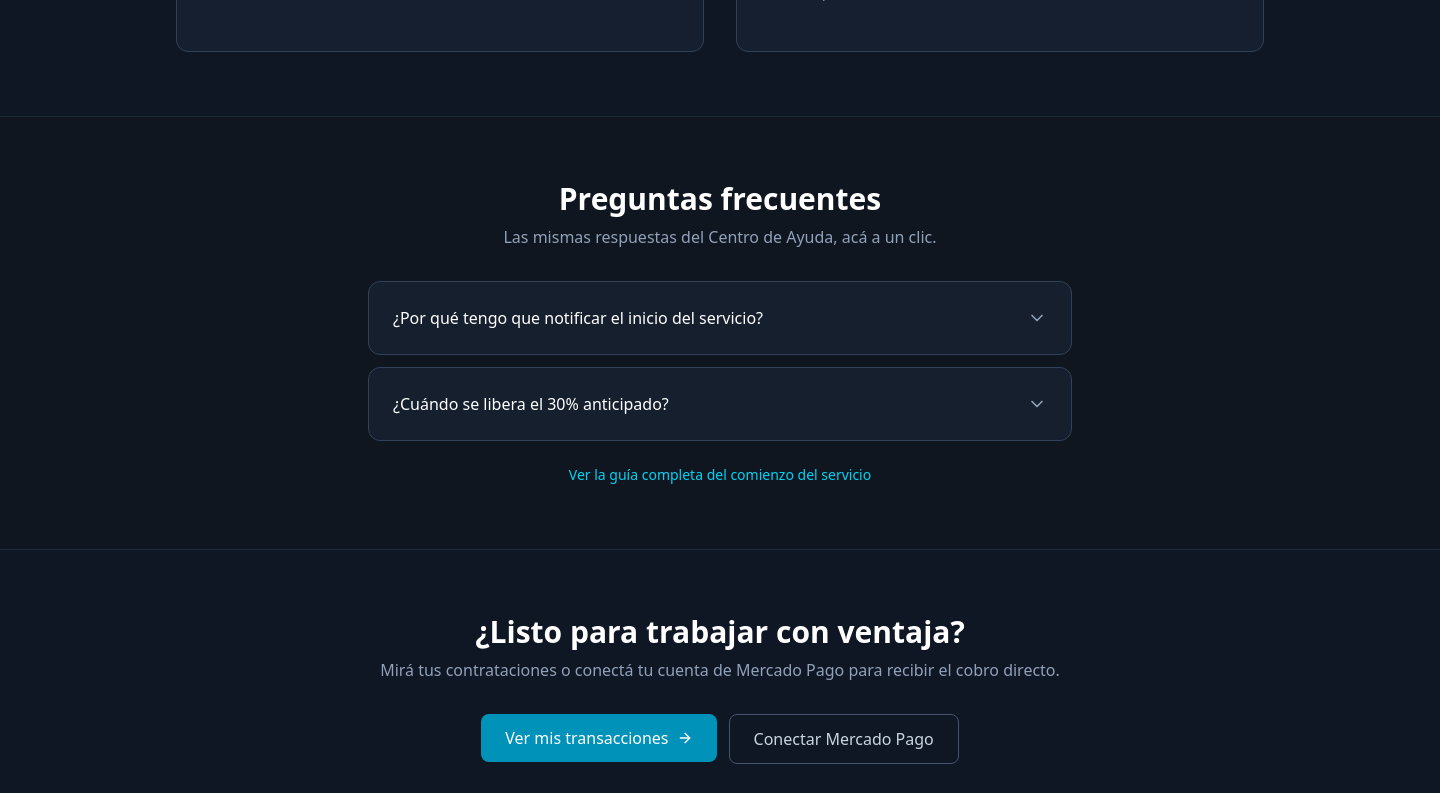
Anticipo30Landing › muestra las FAQs del anuncio y permite abrirlas
(page scrolled)
Check: the text "¿Por qué tengo que notificar el inicio del servicio?" is shown, box [393,306,779,330]
Check: the text "¿Cuándo se libera el 30% anticipado?" is shown, box [393,392,685,416]
Click the button "¿Cuándo se libera el 30% anticipado?".
click(531, 404)  # box [393,392,1047,416]
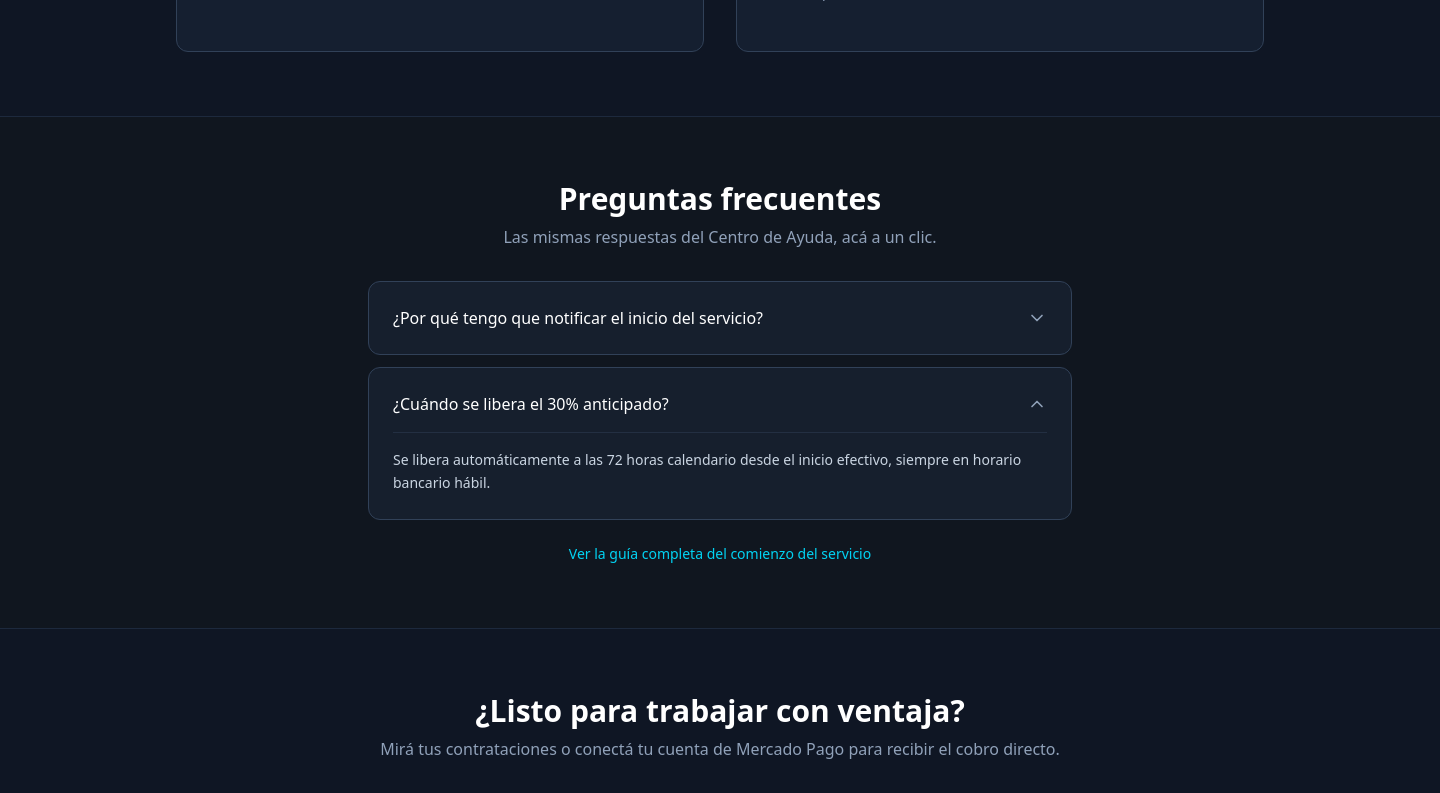
Check: the text "siempre en horario bancario hábil" is shown, box [393,450,1021,492]
